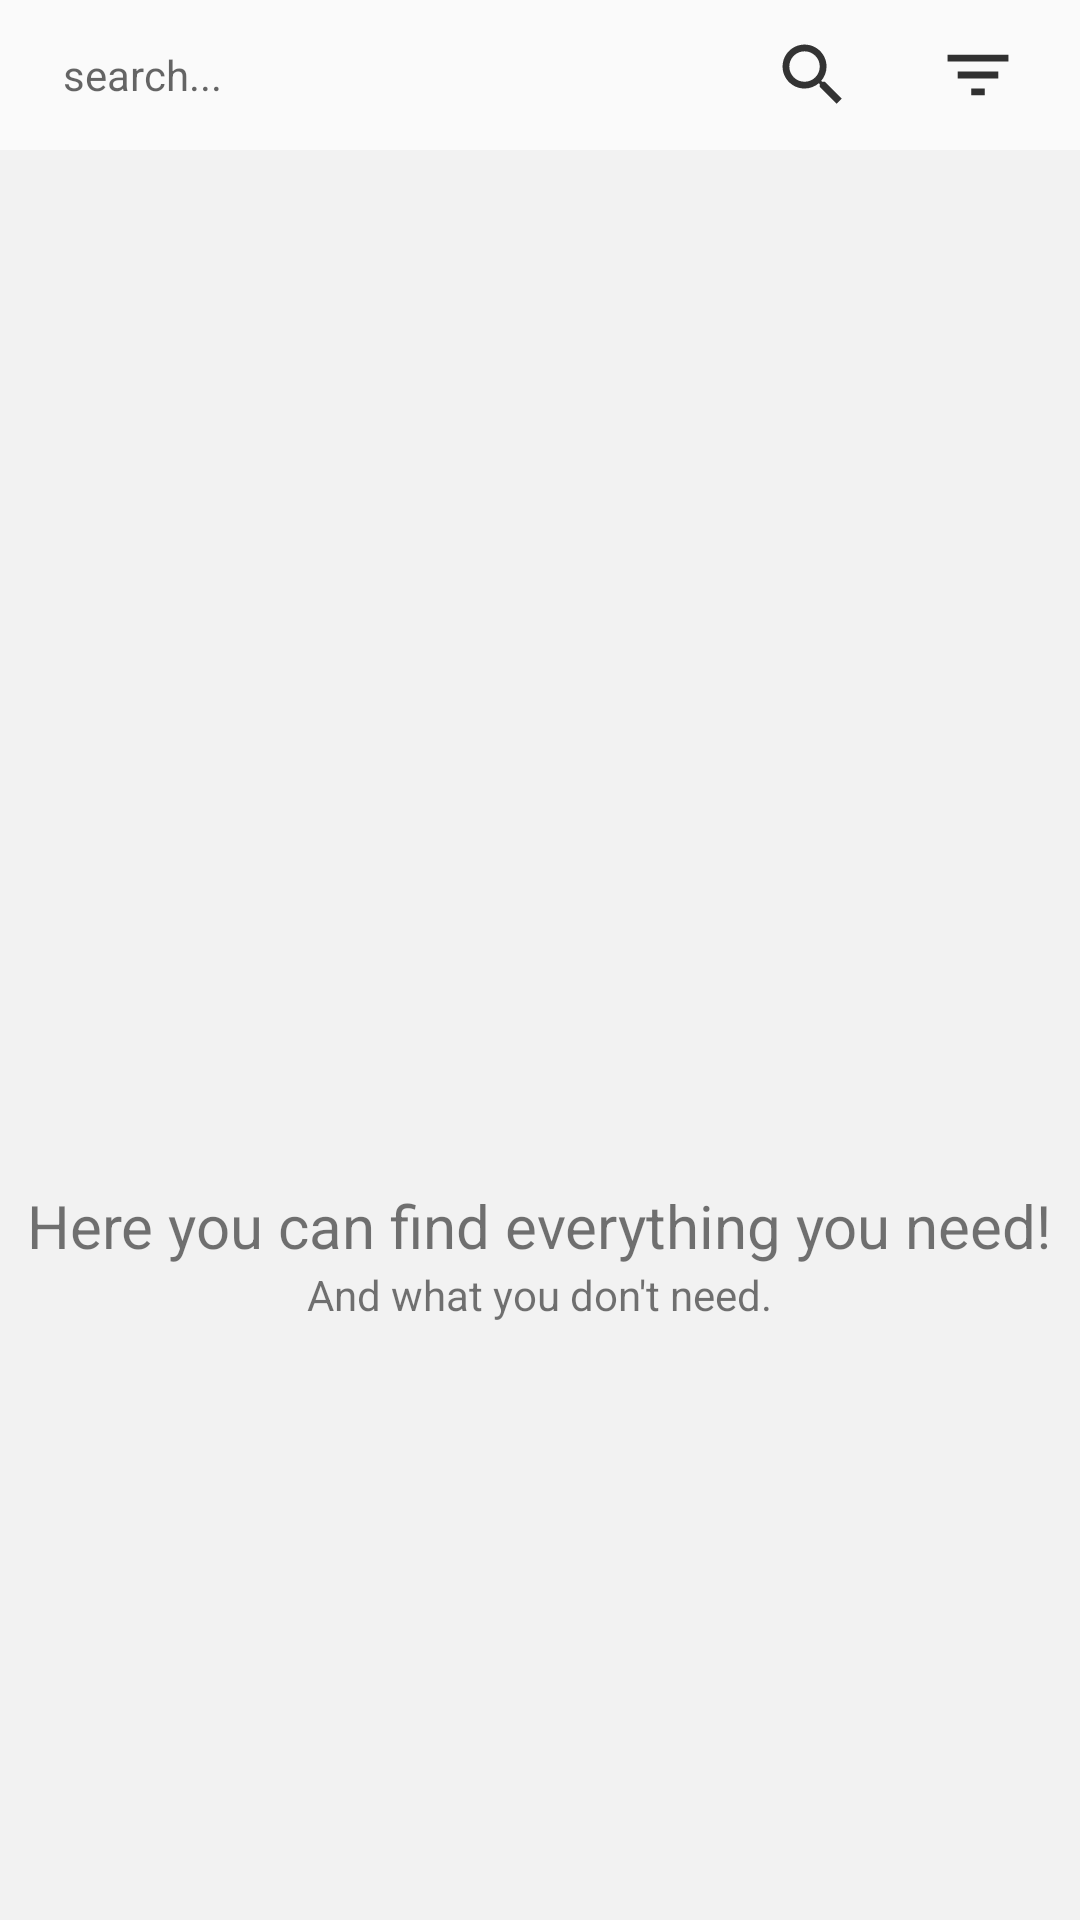

Icons on this 1080 × 1920 Android screen, each with its box as (x1, y1, x2, y2):
filter: (947, 54, 1009, 96)
